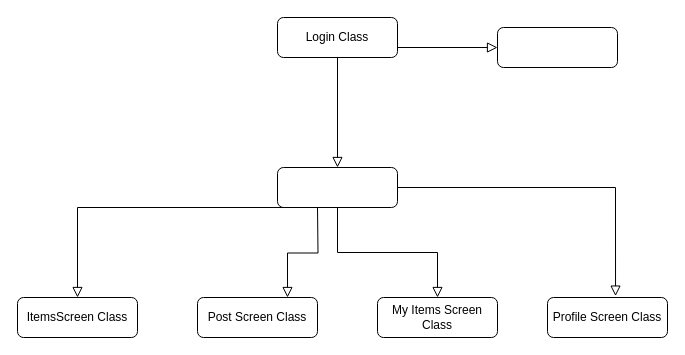
Some shapes in this 685 by 355 pixel diagram are drawn without their labels. Each missing label, with the centre of its shape:
Home Screen Class: the point at 337,187
Register Class: the point at 557,47
